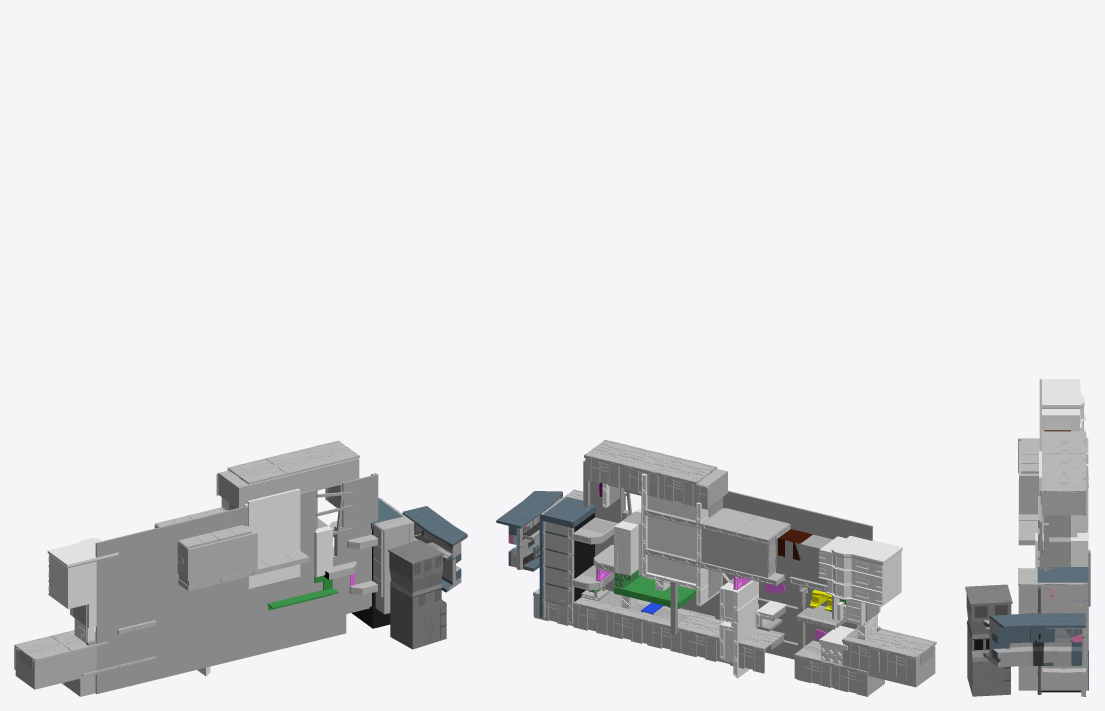
Rendered from ColorALL.fbx.
3 renders of one model, left to right at view 1: azimuth 30°, elevation 25°; view 2: azimuth 150°, elevation 25°; view 3: azimuth 270°, elevation 25°, orthographic. The views are drawn at different scales.
Parts seen in each view (by area): view 1: Cube__16_, Cube__14_, Cube_3600, building_1, Cube_087, Cube_3581, Cube_4218, Cube_4336, Cube__15_, Cube_081, Cube__3_, 立方體_010 (+4 smaller); view 2: Cube_3514, Cube_3600, Cube_087, Cube_4336, Cube_3581, Cube__14_, Cube_4218, Cube_081, Cube_001, Cube_4238, Cube__16_, 立方體 (+7 smaller); view 3: Cube_081, 立方體_003, Cube_3600, building_1, Cube_087, Cube_4336, 立方體_010, 立方體, Cube_4174, Cube__26__2, Cube_3581, Cube__72__1 (+4 smaller).
Boxes of the visible parts, left/top/right/bottom form: Cube__16_: left=95, top=556, right=346, bottom=693; Cube__14_: left=95, top=489, right=316, bottom=687; Cube_3600: left=216, top=440, right=359, bottom=508; building_1: left=388, top=539, right=446, bottom=649; Cube_087: left=154, top=507, right=309, bottom=591; Cube_3581: left=221, top=488, right=300, bottom=588; Cube_4218: left=14, top=630, right=108, bottom=689; Cube_4336: left=47, top=538, right=118, bottom=628; Cube__15_: left=336, top=519, right=376, bottom=614; Cube_081: left=373, top=498, right=414, bottom=614; Cube__3_: left=342, top=474, right=376, bottom=532; 立方體_010: left=402, top=506, right=467, bottom=546; Cube_3514: left=533, top=589, right=784, bottom=673; Cube_3600: left=584, top=439, right=727, bottom=509; Cube_087: left=645, top=508, right=790, bottom=585; Cube_4336: left=818, top=535, right=902, bottom=625; Cube_3581: left=641, top=473, right=722, bottom=606; Cube__14_: left=681, top=490, right=872, bottom=631; Cube_4218: left=842, top=628, right=936, bottom=687; Cube_081: left=541, top=489, right=588, bottom=624; Cube_001: left=719, top=580, right=758, bottom=678; Cube_4238: left=793, top=640, right=884, bottom=696; Cube__16_: left=680, top=573, right=855, bottom=659; 立方體: left=539, top=496, right=595, bottom=617; Cube_081: left=1018, top=568, right=1088, bottom=690; 立方體_003: left=983, top=617, right=1085, bottom=667; Cube_3600: left=1042, top=431, right=1086, bottom=515; building_1: left=965, top=584, right=1012, bottom=696; Cube_087: left=1018, top=438, right=1088, bottom=545; Cube_4336: left=1040, top=379, right=1085, bottom=431; 立方體_010: left=989, top=613, right=1085, bottom=628; 立方體: left=1037, top=567, right=1088, bottom=690; Cube_4174: left=1035, top=532, right=1088, bottom=567; Cube__26__2: left=1049, top=537, right=1070, bottom=566; Cube_3581: left=1039, top=451, right=1088, bottom=532; Cube__72__1: left=1044, top=515, right=1070, bottom=537.
Bounding box in the file's own units: 18855 × 26981 × 4722.
